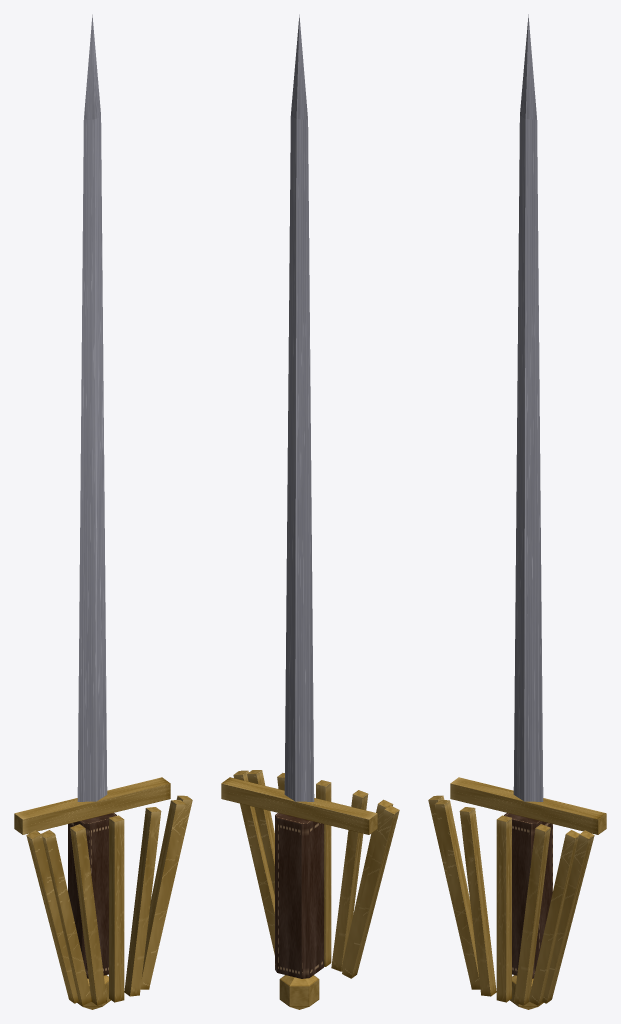
The model's file is Rapier.fbx.
3 renders of one model, left to right at view 1: azimuth 30°, elevation 25°; view 2: azimuth 150°, elevation 25°; view 3: azimuth 330°, elevation 25°, orthographic.
Parts seen in each view (by area): view 1: Guard, Blade, Handle; view 2: Blade, Guard, Handle, Pommel; view 3: Guard, Blade, Handle.
Boxes of the visible parts, x1,y1,x2,y2 form: Guard: [14, 777, 192, 1005]; Blade: [77, 14, 107, 801]; Handle: [68, 813, 116, 978]; Blade: [284, 14, 314, 801]; Guard: [221, 770, 399, 978]; Handle: [275, 813, 323, 978]; Pommel: [279, 975, 319, 1009]; Guard: [428, 777, 606, 1005]; Blade: [513, 14, 543, 801]; Handle: [504, 813, 552, 978].
Size of the model in its own units: 65.19 by 386 by 26.
Materials: 1 (1 with a texture image).
